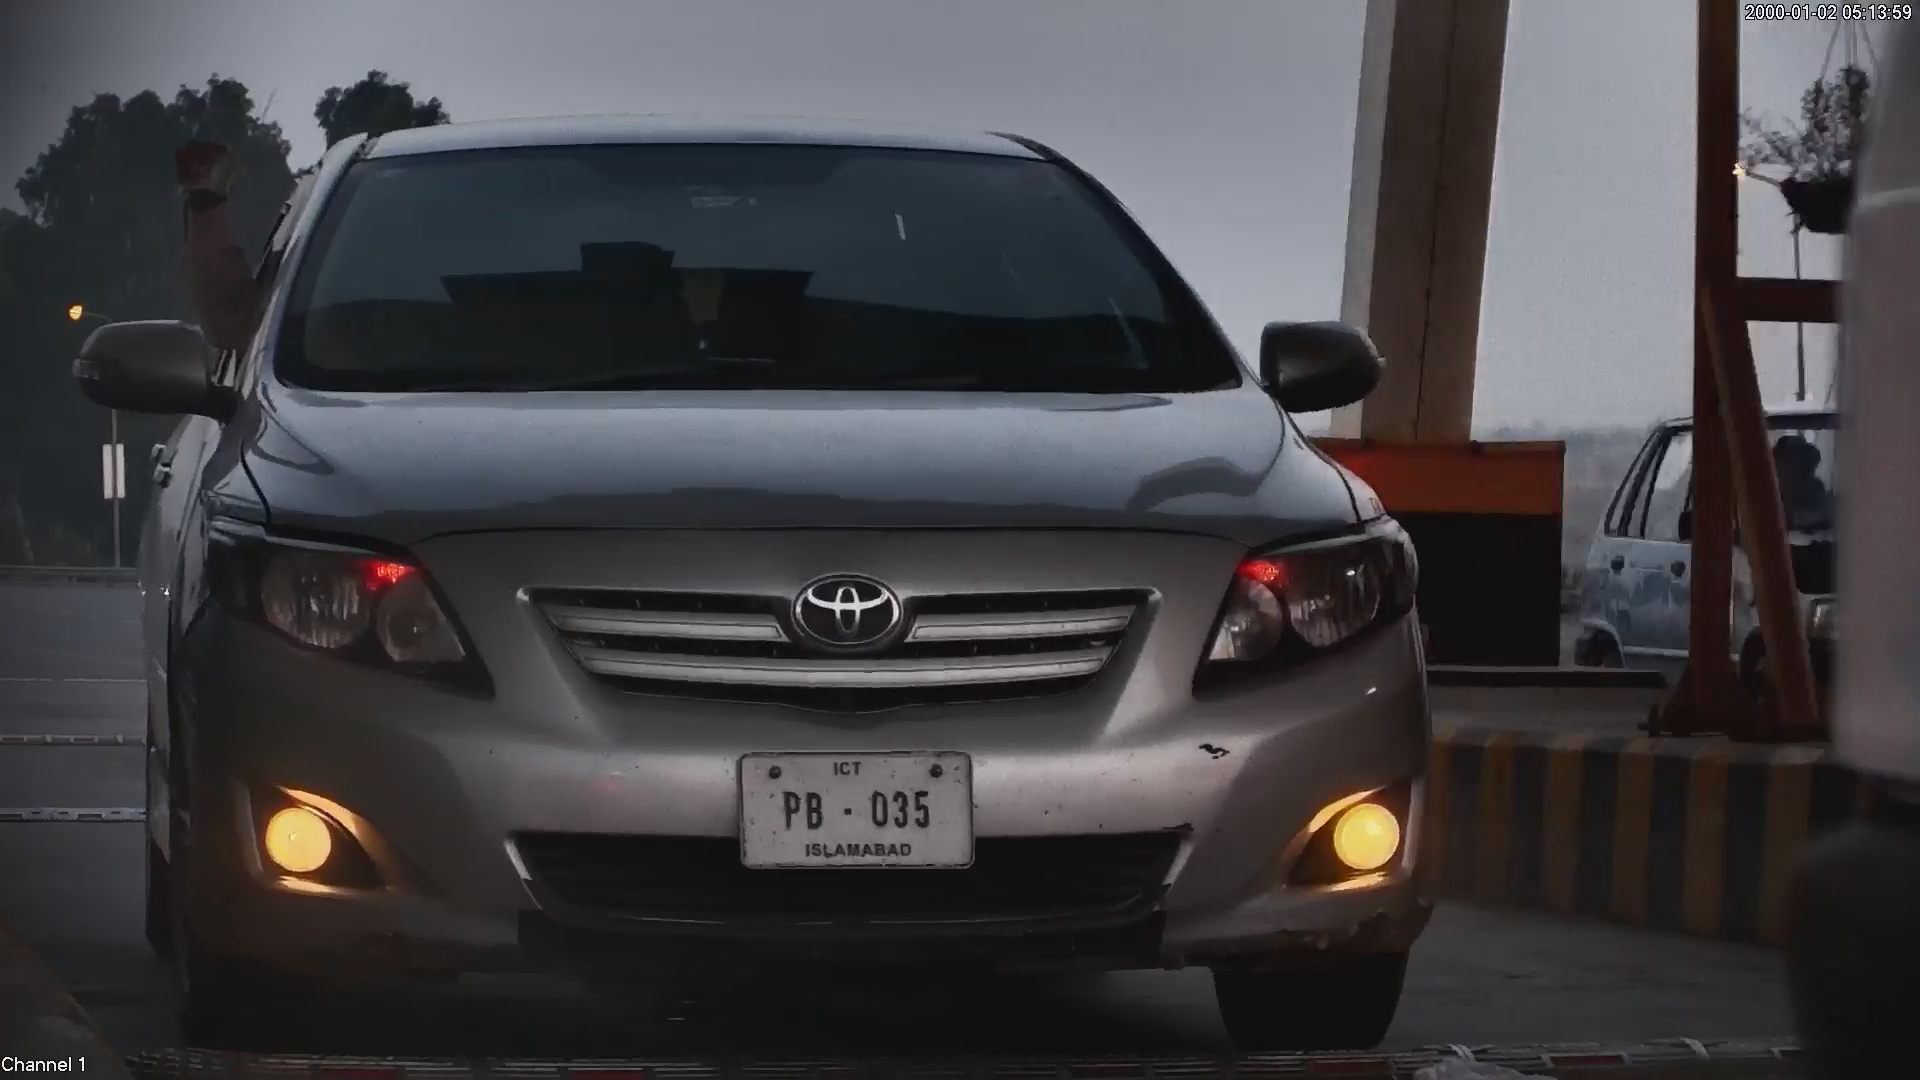Number_Plate: (724, 739, 987, 886)
